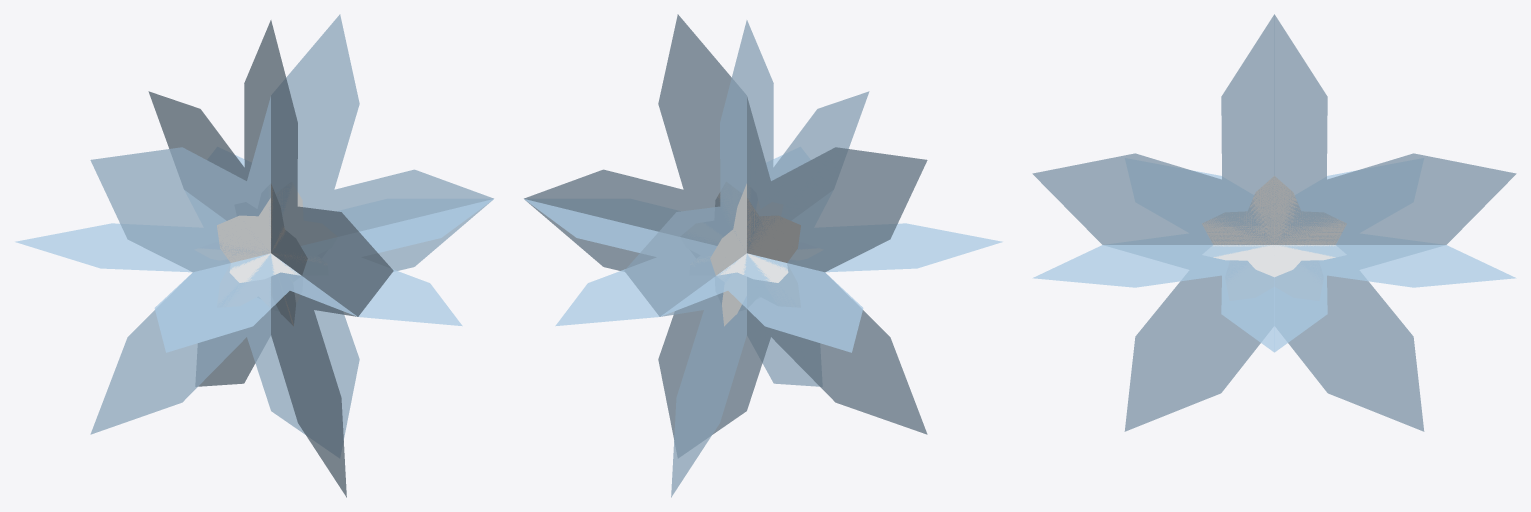
The model's file is Fx_SparkGlow.glb.
3 views of the same model, side by side, from view 1: azimuth 30°, elevation 25°; view 2: azimuth 150°, elevation 25°; view 3: azimuth 270°, elevation 25° (orthographic).
Visible parts, largest first — view 1: Fx_SparkGlow; view 2: Fx_SparkGlow; view 3: Fx_SparkGlow.
Boxes of the visible parts, <box> form: Fx_SparkGlow: <box>15,14,493,497</box>; Fx_SparkGlow: <box>524,14,1002,497</box>; Fx_SparkGlow: <box>1032,14,1516,431</box>.
Size of the model in its own units: 0.9045 by 0.9755 by 0.9511.
